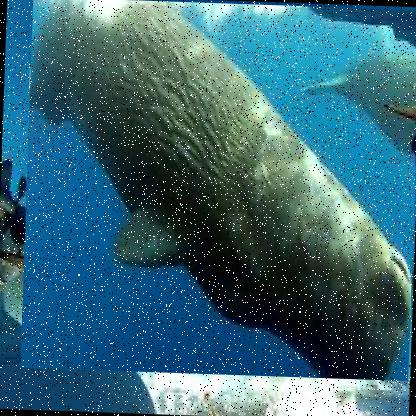sperm_whale: (20, 0, 415, 382)
